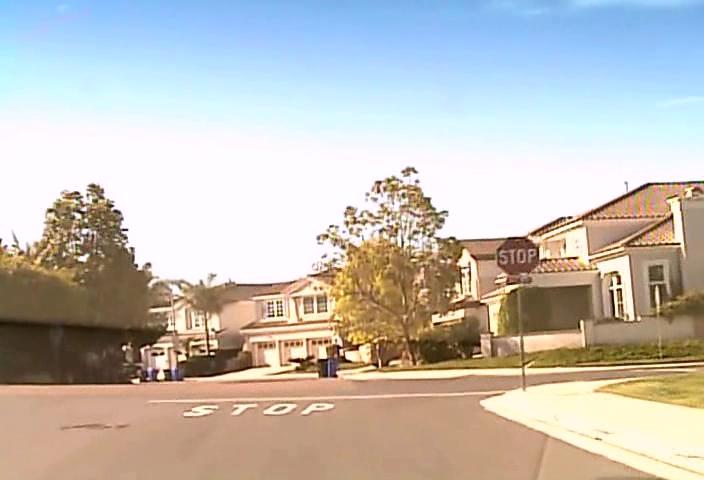stop: (495, 236, 540, 276)
